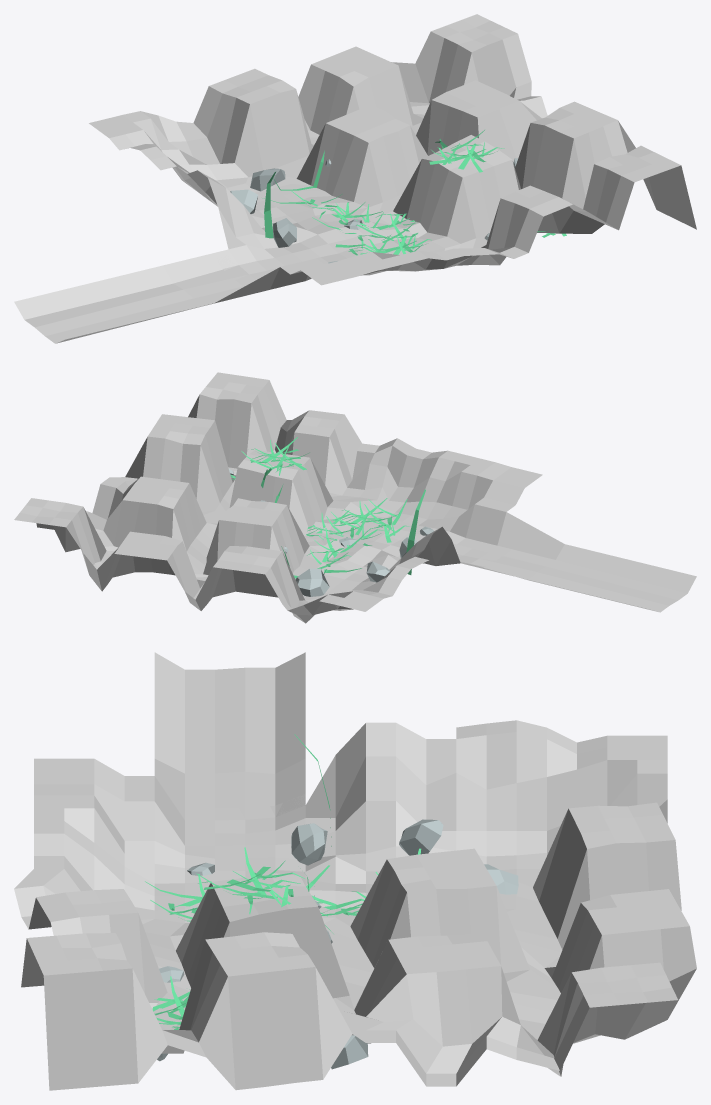
File: 042620shadowReceiversMap2.gltf
3 renders of one model, top to bottom at view 1: azimuth 30°, elevation 25°; view 2: azimuth 150°, elevation 25°; view 3: azimuth 270°, elevation 25°, orthographic. The views are drawn at different scales.
Visible parts, largest first — view 1: Plane.001, Cube.041, Cube.023; view 2: Plane.001, Cube.023; view 3: Plane.001, Cube.041, Cube.019, Cube.024.
Boxes of the visible parts, bbox=[...] form: Plane.001: bbox=[14, 14, 696, 343]; Cube.041: bbox=[273, 218, 296, 247]; Cube.023: bbox=[250, 168, 285, 191]; Plane.001: bbox=[14, 372, 696, 623]; Cube.023: bbox=[295, 568, 329, 596]; Plane.001: bbox=[14, 652, 696, 1090]; Cube.041: bbox=[291, 823, 327, 865]; Cube.019: bbox=[399, 819, 443, 855]; Cube.024: bbox=[331, 1035, 368, 1069].
Bounding box in the file's own units: 96.76 × 14.23 × 64.69.
